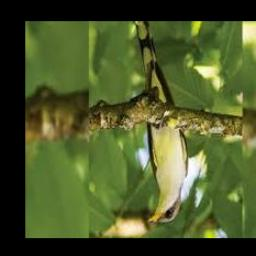Cuckoo: (135, 21, 188, 224)
